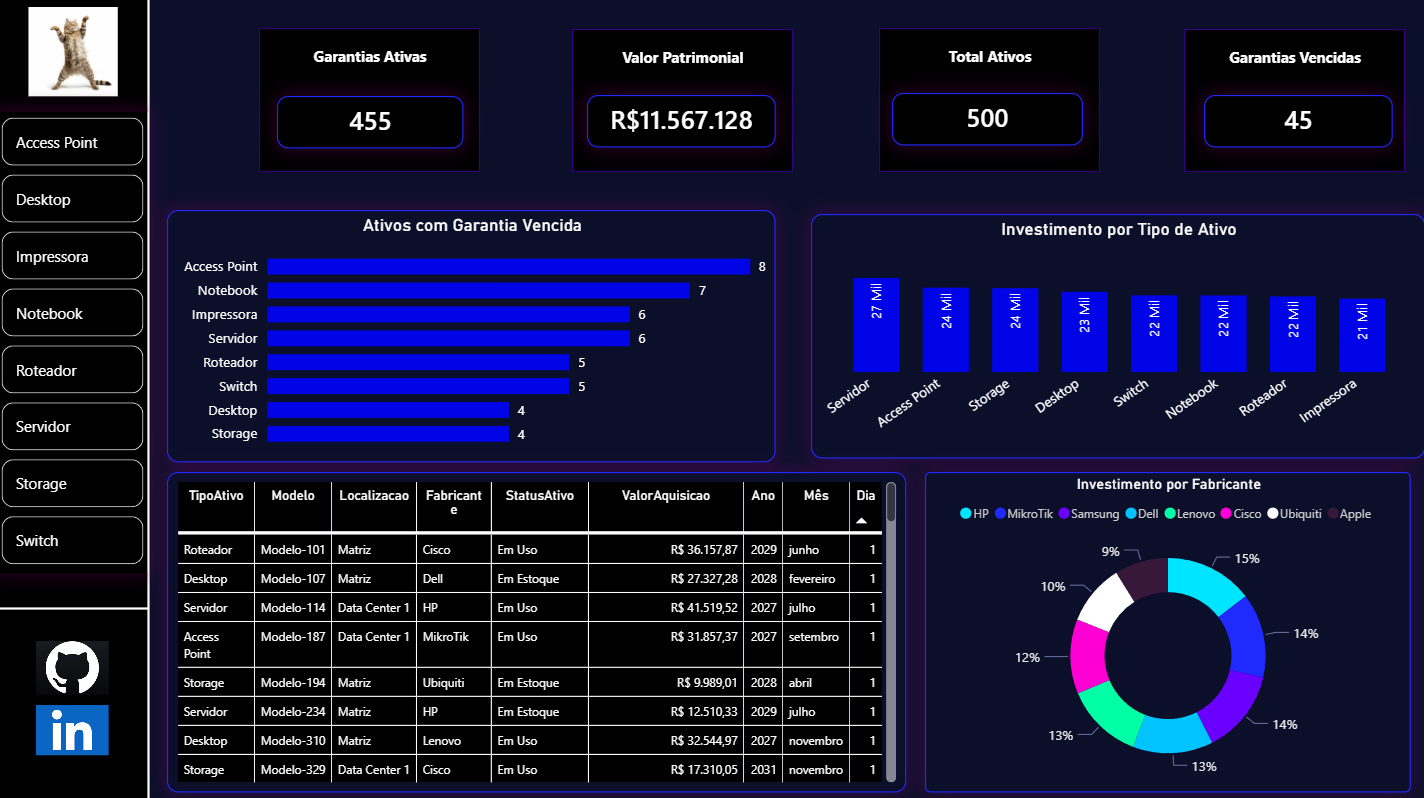

The dashboard page shown, as its layout file describes it:
{"tool":"powerbi","page":{"name":"Garantia e Investimento","canvas":[1280,720],"ordinal":3},"visuals":[{"type":"group","id":"g1","title":"Grupo 3","box":[0,0,145.1,720],"z":0},{"type":"shape","box":[0,0,137,720],"z":0,"group":"g1"},{"type":"shape","box":[235.5,28.7,197.9,129],"z":0,"group":"g4"},{"type":"shape","box":[790.7,28.7,197.9,129],"z":0,"group":"g5"},{"type":"shape","box":[515.8,29.6,197.9,128.1],"z":0,"group":"g6"},{"type":"shape","box":[1063.9,29.6,197.9,128.1],"z":0,"group":"g7"},{"type":"group","id":"g2","title":"Grupo 2","box":[515.8,29.6,197.9,128.1],"z":1000},{"type":"card","title":"Lucro","fields":{"Values":["Ativos_TI.Total Ativos"]},"box":[802.7,86.7,171,46.9],"z":1000,"group":"g5"},{"type":"card","title":"Lucro","fields":{"Values":["Ativos_TI.Valor Patrimonio"]},"box":[529.3,89.1,169.3,46.6],"z":1000,"group":"g6"},{"type":"card","title":"Lucro","fields":{"Values":["Ativos_TI.Garantias Vencidas"]},"box":[1082.1,89.1,169.3,46.6],"z":1000,"group":"g7"},{"type":"card","title":"Lucro","fields":{"Values":["Ativos_TI.Garantias Ativas"]},"box":[251.3,89.4,167.5,46.9],"z":1000,"group":"g4"},{"type":"group","id":"g3","title":"Grupo 2","box":[790.7,28.7,197.9,129],"z":2000},{"type":"barChart","title":"Ativos com Garantia Vencida","fields":{"Y":["Ativos_TI.Garantias Vencidas"],"Category":["Ativos_TI.TipoAtivo"]},"box":[153.1,191.6,545.4,225.7],"z":3000},{"type":"tableEx","fields":{"Values":["Ativos_TI.TipoAtivo","Ativos_TI.Modelo","Ativos_TI.Localizacao","Ativos_TI.Fabricante","Ativos_TI.StatusAtivo","Ativos_TI.ValorAquisicao","Ativos_TI.GarantiaFim.Variation.Hierarquia de datas.Ano","Ativos_TI.GarantiaFim.Variation.Hierarquia de datas.Mês","Ativos_TI.GarantiaFim.Variation.Hierarquia de datas.Dia"]},"box":[153.1,426.3,661.8,286.6],"z":4000},{"type":"group","id":"g4","title":"Grupo 1","box":[235.5,28.7,197.9,129],"z":5000,"group":"g9"},{"type":"group","id":"g5","title":"Grupo 1","box":[790.7,28.7,197.9,129],"z":5000,"group":"g3"},{"type":"group","id":"g6","title":"Grupo 1","box":[515.8,29.6,197.9,128.1],"z":5000,"group":"g2"},{"type":"group","id":"g7","title":"Grupo 1","box":[1063.9,29.6,197.9,128.1],"z":5000,"group":"g8"},{"type":"columnChart","title":"Investimento por Tipo de Ativo","fields":{"Y":["Ativos_TI.Investimento Médio"],"Category":["Ativos_TI.TipoAtivo"]},"box":[729.9,195.2,549.9,218.5],"z":5000},{"type":"textbox","box":[251.6,40.4,166.6,31.6],"z":6000,"group":"g9"},{"type":"textbox","box":[806.8,40.4,166.6,31.6],"z":6000,"group":"g3"},{"type":"textbox","box":[531.9,41.2,166.6,31.3],"z":6000,"group":"g2"},{"type":"textbox","box":[1080,41.2,166.6,31.3],"z":6000,"group":"g8"},{"type":"donutChart","title":"Investimento por Fabricante","fields":{"Category":["Ativos_TI.Fabricante"],"Y":["Sum(Ativos_TI.ValorAquisicao)"]},"box":[831.9,426.3,435.2,286.6],"z":6000},{"type":"group","id":"g8","title":"Grupo 2","box":[1063.9,29.6,197.9,128.1],"z":7000},{"type":"group","id":"g9","title":"Grupo 2","box":[235.5,28.7,197.9,129],"z":8000},{"type":"shape","box":[128.1,0,17,720],"z":8001,"group":"g1"},{"type":"actionButton","box":[35.8,634.9,65.4,44.8],"z":9000},{"type":"actionButton","box":[35.8,577.6,65.4,48.4],"z":10000},{"type":"advancedSlicerVisual","fields":{"Values":["Ativos_TI.TipoAtivo"]},"box":[0,103.9,137,412.8],"z":11000},{"type":"shape","box":[0,536.4,137,24.2],"z":12000},{"type":"image","box":[8.1,9.9,121.8,79.7],"z":13000}]}

Visuals, with their boxes on the page's 1280x720 design canvas (x1, y1, x2, y2). These are canvas units, not pixel positions in the 1424x798 screenshot, which may show the page scaled, cropped or inside an application window:
"Grupo 3" group: box(0, 0, 145, 720)
shape: box(0, 0, 137, 720)
shape: box(236, 29, 433, 158)
shape: box(791, 29, 989, 158)
shape: box(516, 30, 714, 158)
shape: box(1064, 30, 1262, 158)
"Grupo 2" group: box(516, 30, 714, 158)
"Lucro" card: box(803, 87, 974, 134)
"Lucro" card: box(529, 89, 699, 136)
"Lucro" card: box(1082, 89, 1251, 136)
"Lucro" card: box(251, 89, 419, 136)
"Grupo 2" group: box(791, 29, 989, 158)
"Ativos com Garantia Vencida" barChart: box(153, 192, 698, 417)
tableEx - Ativos_TI.TipoAtivo x Ativos_TI.Modelo: box(153, 426, 815, 713)
"Grupo 1" group: box(236, 29, 433, 158)
"Grupo 1" group: box(791, 29, 989, 158)
"Grupo 1" group: box(516, 30, 714, 158)
"Grupo 1" group: box(1064, 30, 1262, 158)
"Investimento por Tipo de Ativo" columnChart: box(730, 195, 1280, 414)
textbox: box(252, 40, 418, 72)
textbox: box(807, 40, 973, 72)
textbox: box(532, 41, 698, 72)
textbox: box(1080, 41, 1247, 72)
"Investimento por Fabricante" donutChart: box(832, 426, 1267, 713)
"Grupo 2" group: box(1064, 30, 1262, 158)
"Grupo 2" group: box(236, 29, 433, 158)
shape: box(128, 0, 145, 720)
actionButton: box(36, 635, 101, 680)
actionButton: box(36, 578, 101, 626)
advancedSlicerVisual - Ativos_TI.TipoAtivo: box(0, 104, 137, 517)
shape: box(0, 536, 137, 561)
image: box(8, 10, 130, 90)
